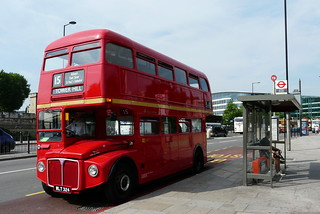bus: (33, 29, 213, 201)
